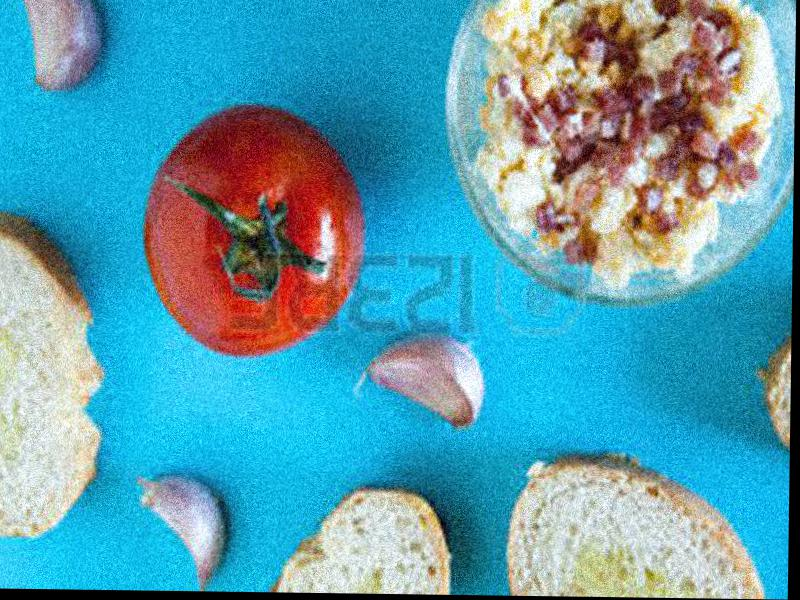Tomato: (141, 104, 357, 360)
